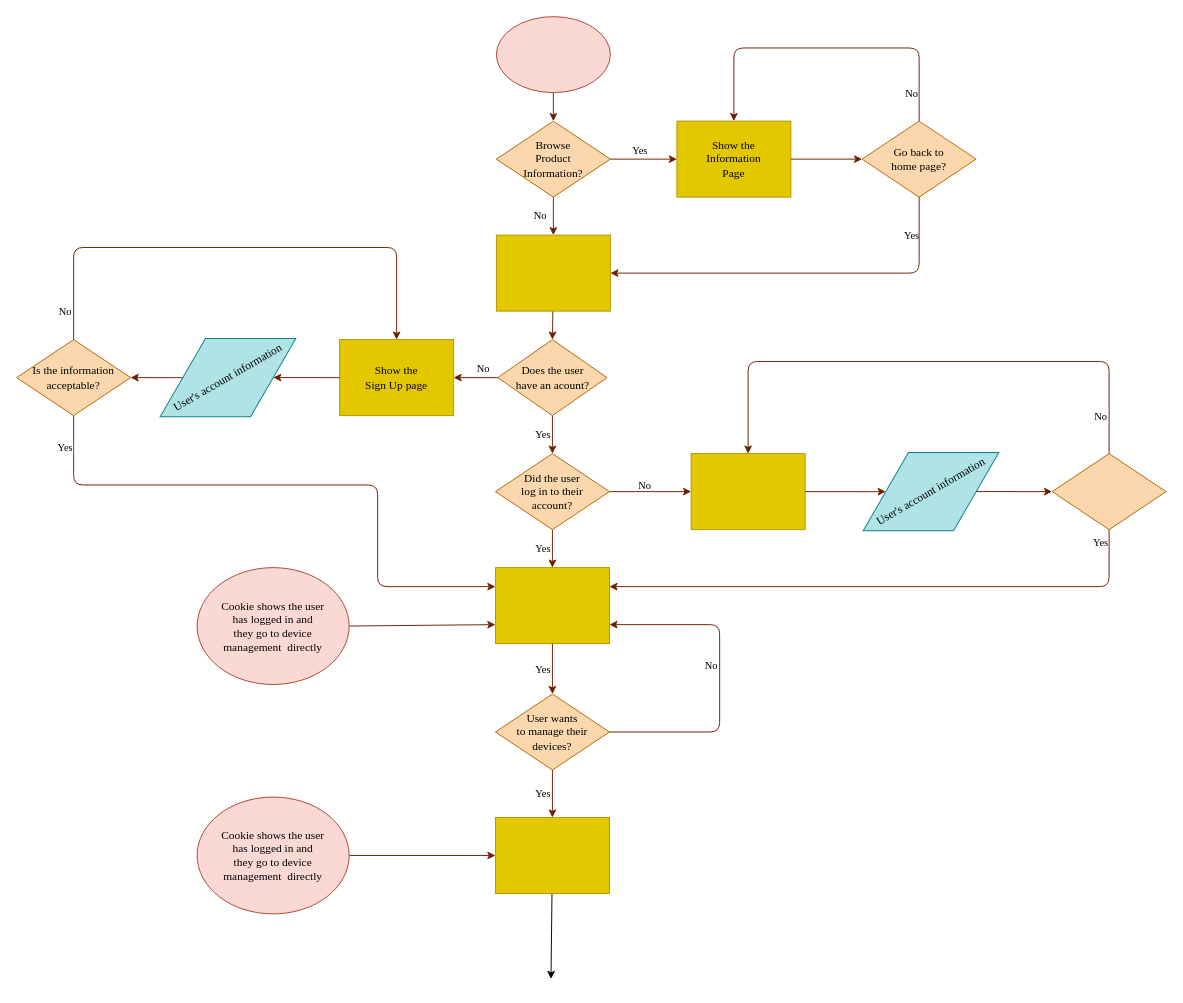
Some shapes in this 1183 by 1003 pixel diagram are drawn without their labels. Here are the shapes that lost their labels. From the top down, the centre of each, then its label:
pixel 552 54: User launches the web application
pixel 552 272: Show the Home page
pixel 747 491: Show the Log In page
pixel 1108 491: Is the credential correct?
pixel 551 605: Show the Profile page
pixel 551 855: Show the Device Managemen Page
